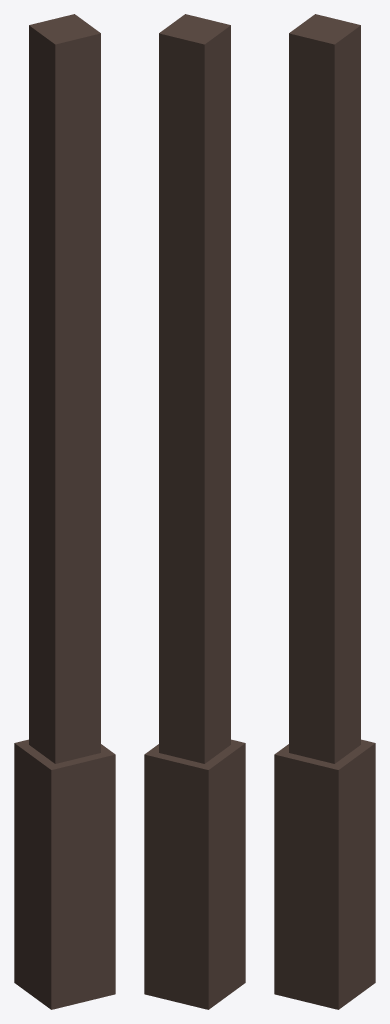
The model's file is h_pillar1_4.fbx.
3 renders of one model, left to right at view 1: azimuth 30°, elevation 25°; view 2: azimuth 150°, elevation 25°; view 3: azimuth 330°, elevation 25°, orthographic.
Parts seen in each view (by area): view 1: Cube; view 2: Cube; view 3: Cube.
Boxes of the visible parts, x1,y1,x2,y2 form: Cube: [14, 14, 115, 1009]; Cube: [144, 14, 245, 1009]; Cube: [274, 14, 375, 1009].
Size of the model in its own units: 28 by 400 by 28.
